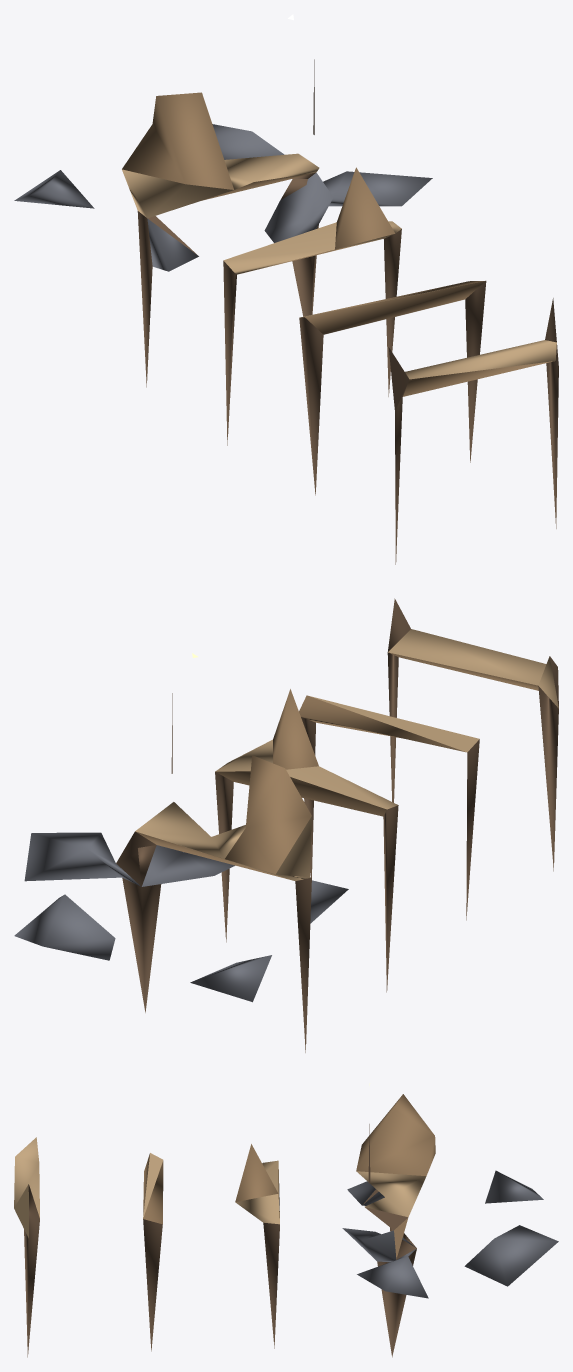
The model's file is poi_grotto_landing_lods.50e049ed.glb.
The picture shows the model from 3 angles, top to bottom: view 1: azimuth 30°, elevation 25°; view 2: azimuth 150°, elevation 25°; view 3: azimuth 270°, elevation 25°; orthographic projection. The views are drawn at different scales.
Parts seen in each view (by area): view 1: poi_grotto_landing_far; view 2: poi_grotto_landing_far; view 3: poi_grotto_landing_far.
Boxes of the visible parts, <box> form: poi_grotto_landing_far: <box>14,14,558,564</box>; poi_grotto_landing_far: <box>14,598,558,1052</box>; poi_grotto_landing_far: <box>14,1083,558,1357</box>.
Size of what is drawn, in the model's own units: 4.47 by 4.75 by 8.92.
